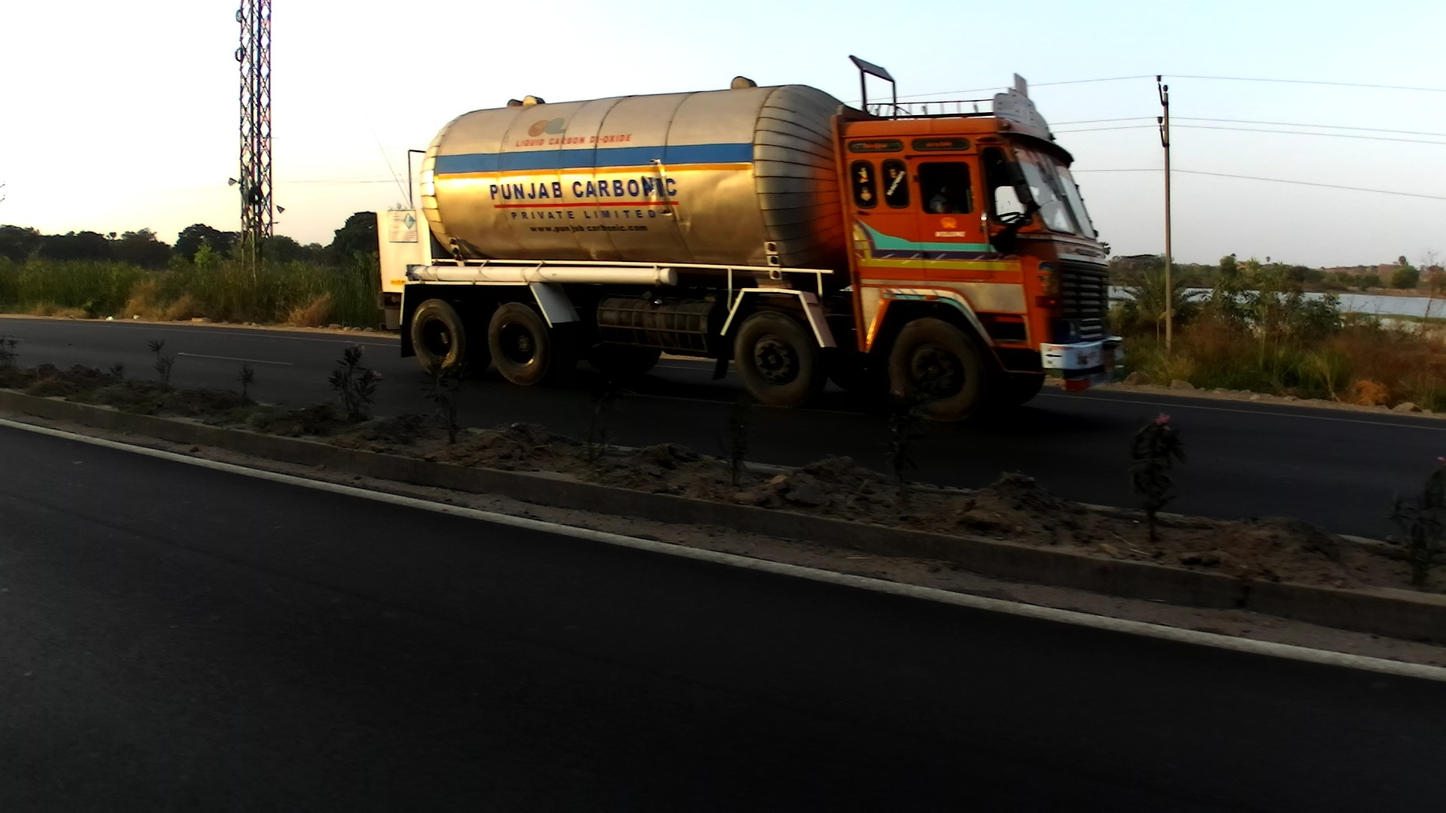truck: (396, 76, 1125, 421)
